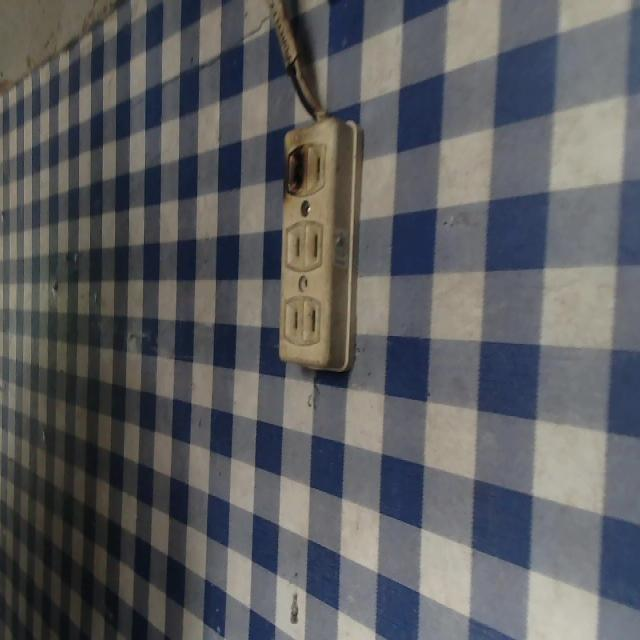-: (277, 144, 310, 199)
